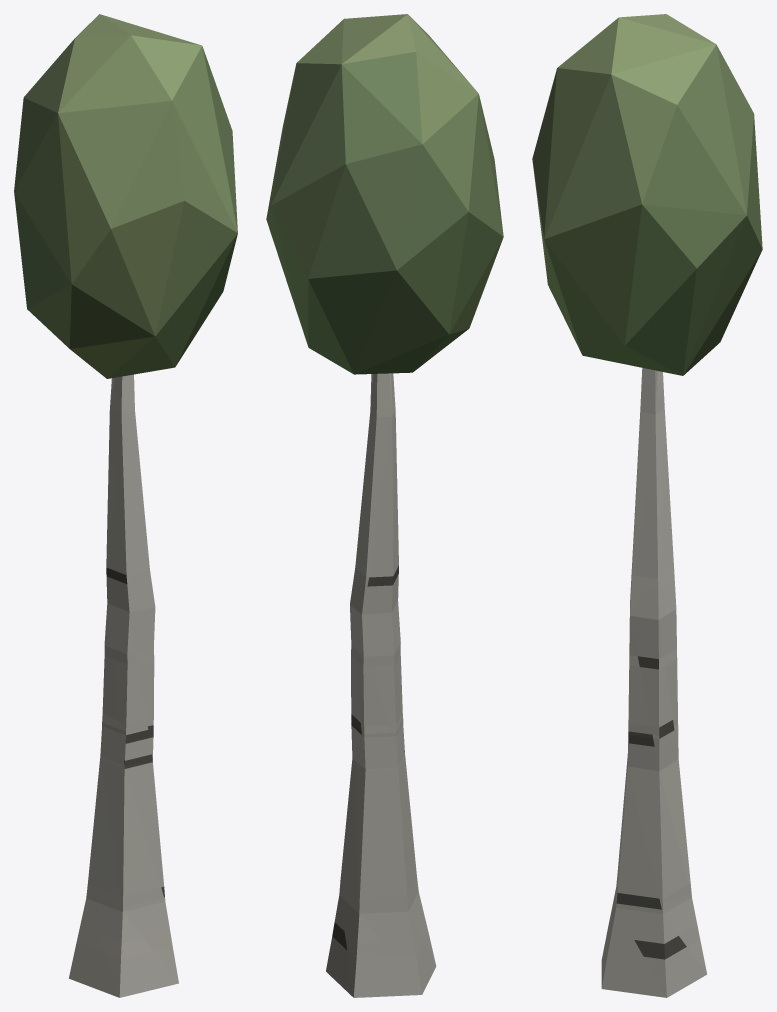
The model's file is Birch_Tree_m_03.glb.
The picture shows the model from 3 angles, left to right: view 1: azimuth 30°, elevation 25°; view 2: azimuth 150°, elevation 25°; view 3: azimuth 270°, elevation 25°; orthographic projection.
Parts seen in each view (by area): view 1: Birch_Tree_m_03; view 2: Birch_Tree_m_03; view 3: Birch_Tree_m_03.
Part boxes in pixels (x1,y1,x2,y2): Birch_Tree_m_03: [14, 14, 237, 997]; Birch_Tree_m_03: [266, 14, 503, 997]; Birch_Tree_m_03: [532, 14, 762, 997].
Size of the model in its own units: 1.41 by 6.32 by 1.39.
